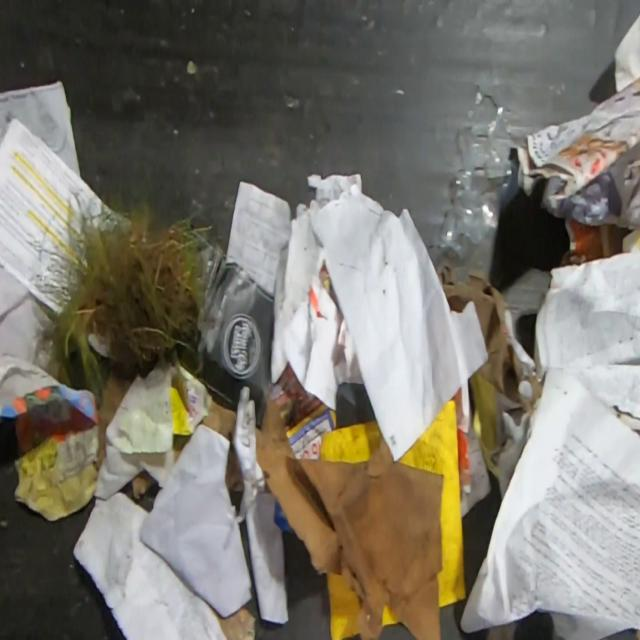cardboard: (435, 256, 543, 415), (398, 396, 470, 608), (502, 266, 553, 376), (99, 368, 132, 470), (324, 567, 364, 640), (320, 420, 381, 462), (200, 398, 237, 443), (216, 605, 258, 639), (130, 471, 158, 501), (380, 602, 401, 628), (174, 434, 190, 458)
rigid_plastic: (427, 75, 523, 260)
